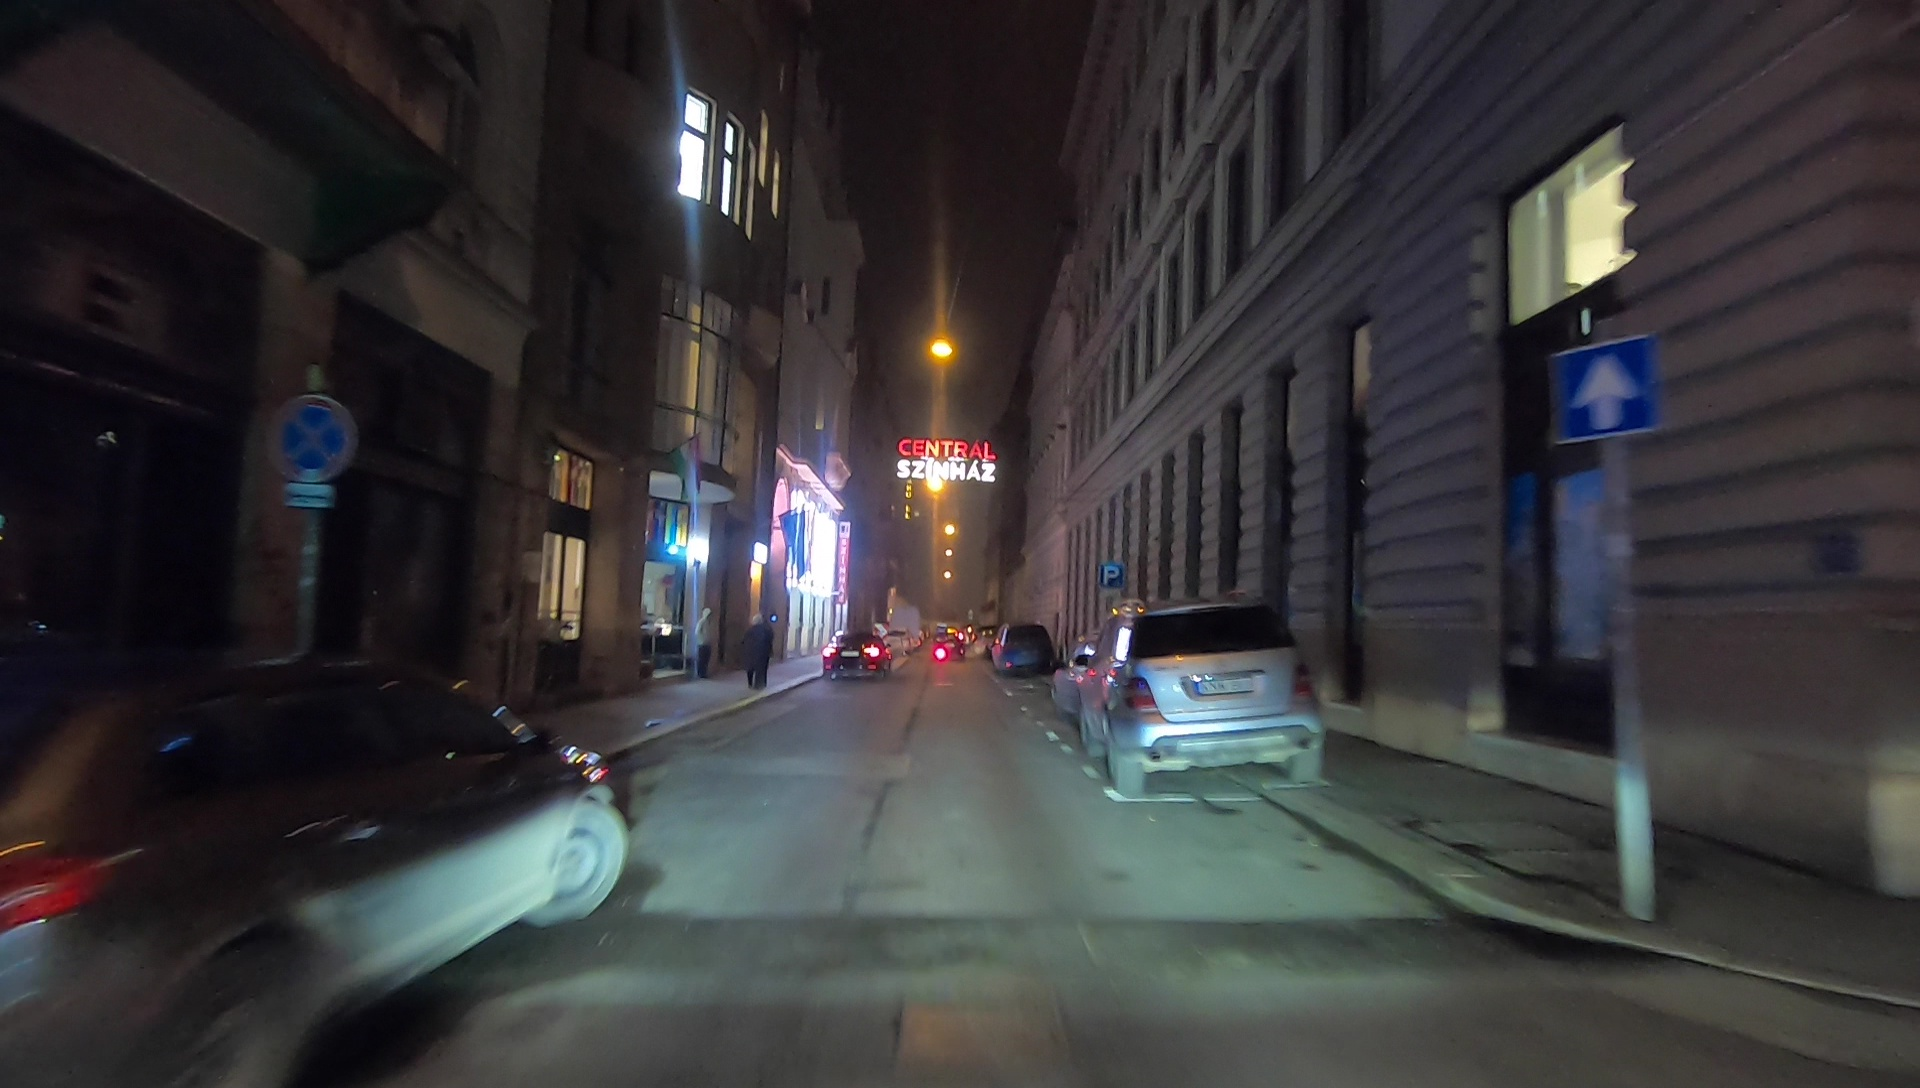person: (743, 610, 775, 691), (693, 606, 721, 678)
